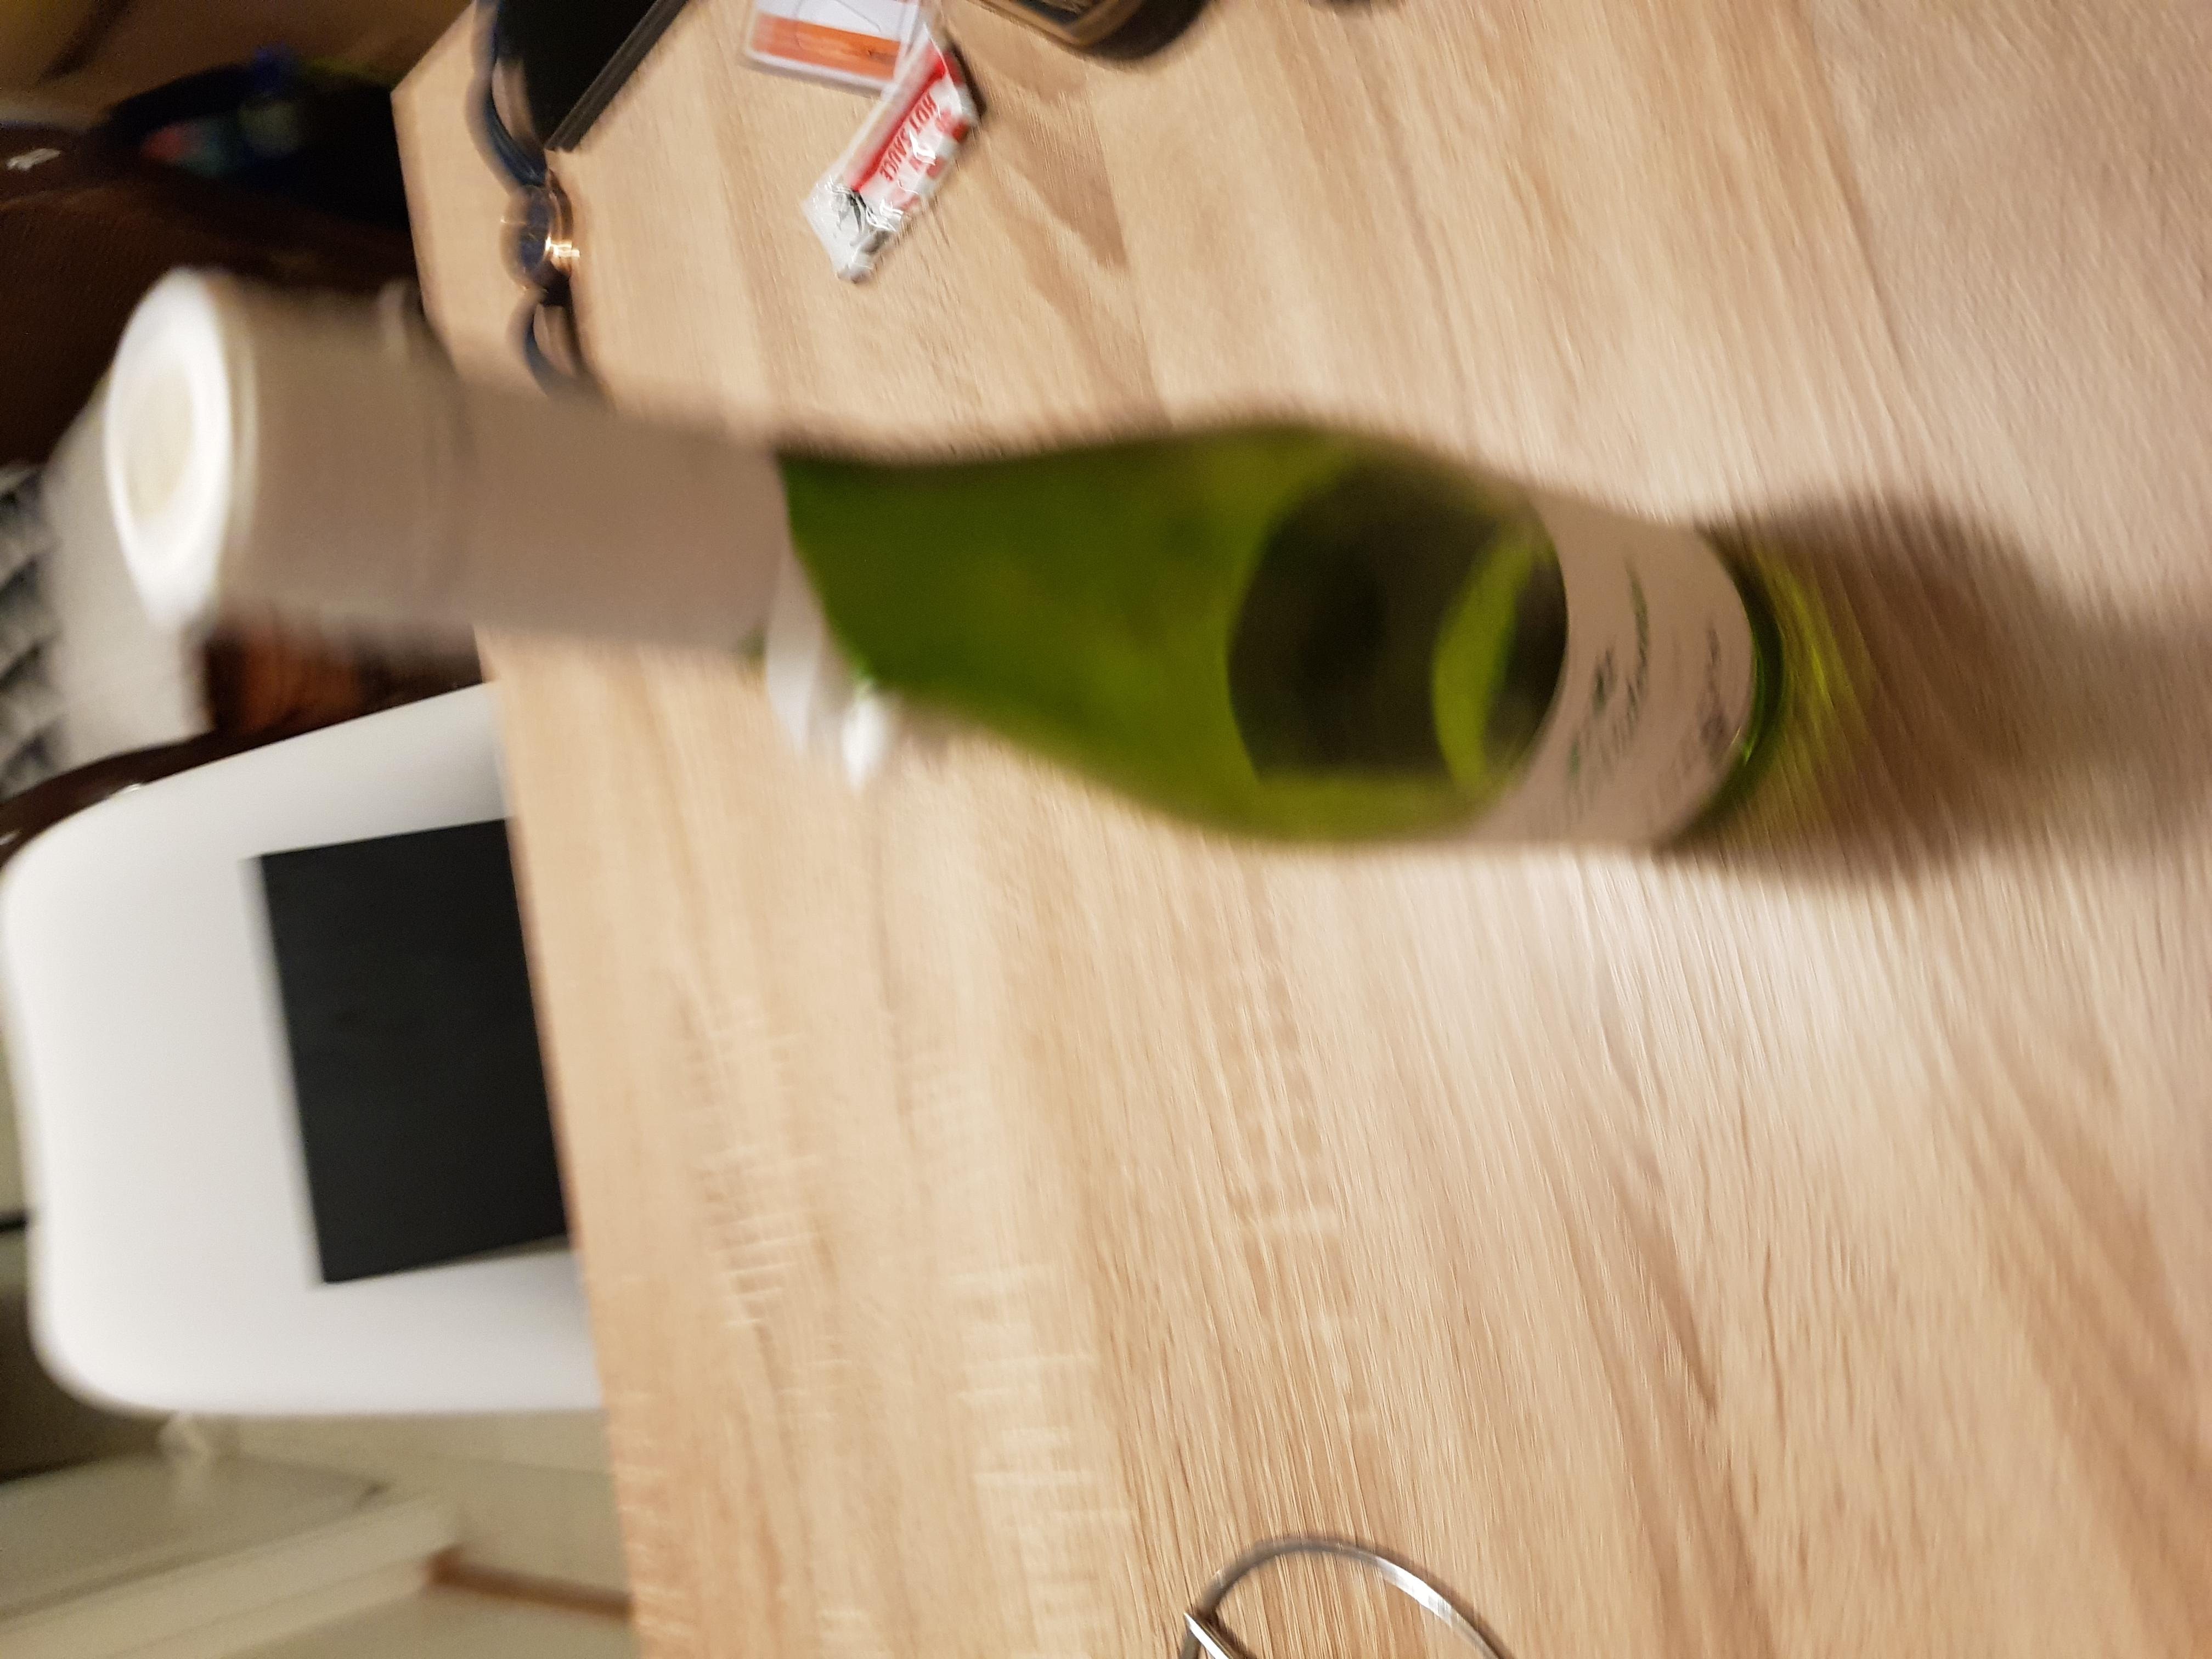Bottle: (101, 270, 1780, 843)
